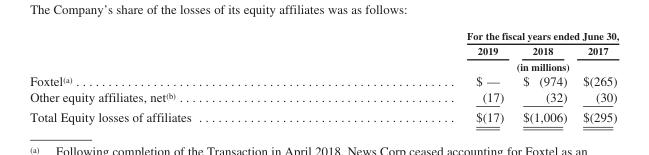table: (29, 29, 618, 124)
table column: (29, 29, 328, 124), (328, 29, 512, 124), (512, 29, 574, 124), (574, 29, 618, 124)
table column header: (29, 29, 618, 72)
table row: (29, 88, 618, 106), (29, 106, 618, 124), (29, 42, 618, 58), (29, 72, 618, 88), (29, 58, 618, 72), (29, 29, 618, 42)
table spanning cell: (328, 58, 618, 72), (328, 29, 618, 42)
